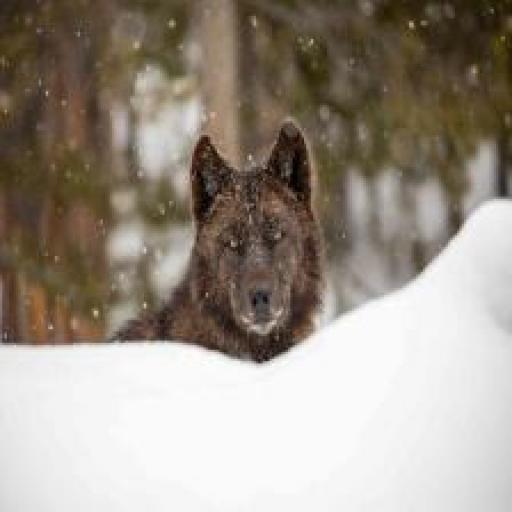wolf: (103, 105, 338, 367)
